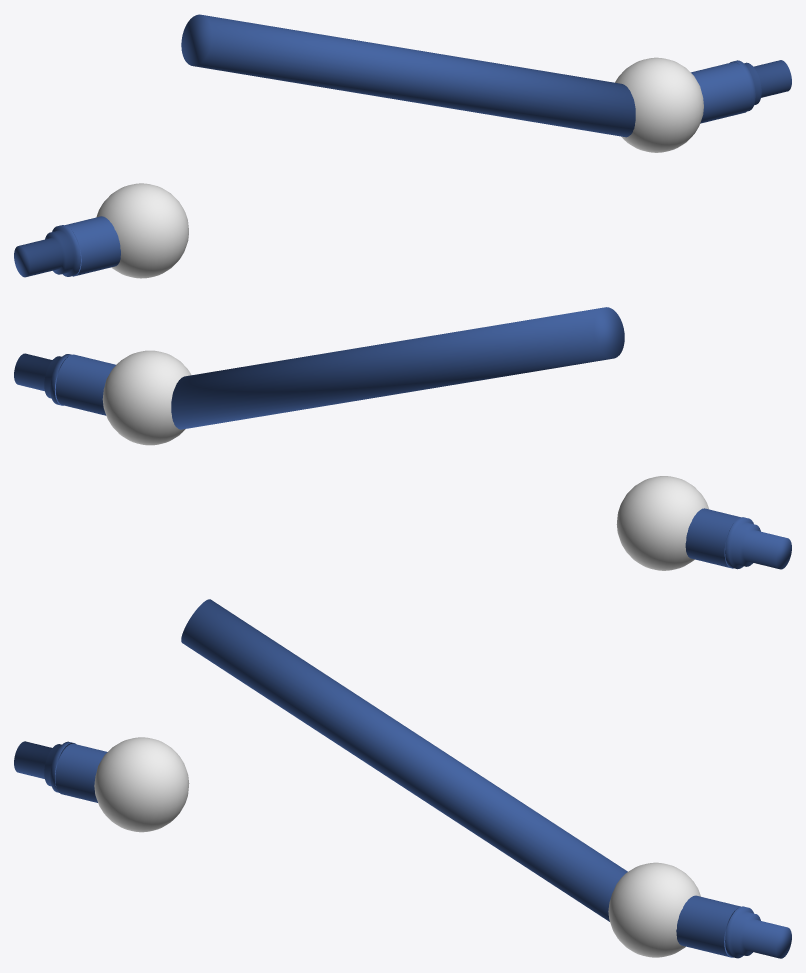
Rendered from switch.fbx.
3 renders of one model, top to bottom at view 1: azimuth 30°, elevation 25°; view 2: azimuth 150°, elevation 25°; view 3: azimuth 330°, elevation 25°, orthographic.
Visible parts, largest first — view 1: central_wire, switch_sphere_2, switch_sphere_1, switch_sides, connector_2.002, connector_1.001; view 2: central_wire, switch_sphere_2, switch_sphere_1, switch_sides, connector_2.002, connector_1.001; view 3: central_wire, switch_sphere_2, switch_sphere_1, switch_sides, connector_1.001, connector_2.002.
Boxes of the visible parts, x1,y1,x2,y2 form: central_wire: (181, 14, 635, 137); switch_sphere_2: (96, 183, 188, 278); switch_sphere_1: (615, 57, 703, 152); switch_sides: (65, 62, 751, 276); connector_2.002: (14, 225, 80, 277); connector_1.001: (730, 60, 791, 111); central_wire: (171, 307, 624, 429); switch_sphere_2: (616, 476, 708, 570); switch_sphere_1: (102, 350, 191, 445); switch_sides: (55, 354, 740, 568); connector_2.002: (725, 517, 791, 569); connector_1.001: (14, 353, 71, 405); central_wire: (181, 599, 627, 921); switch_sphere_2: (94, 737, 189, 832); switch_sphere_1: (608, 862, 700, 957); switch_sides: (55, 743, 740, 957); connector_1.001: (725, 906, 791, 958); connector_2.002: (14, 741, 75, 792).
Size of the model in its own units: 337 by 102 by 36.44.
